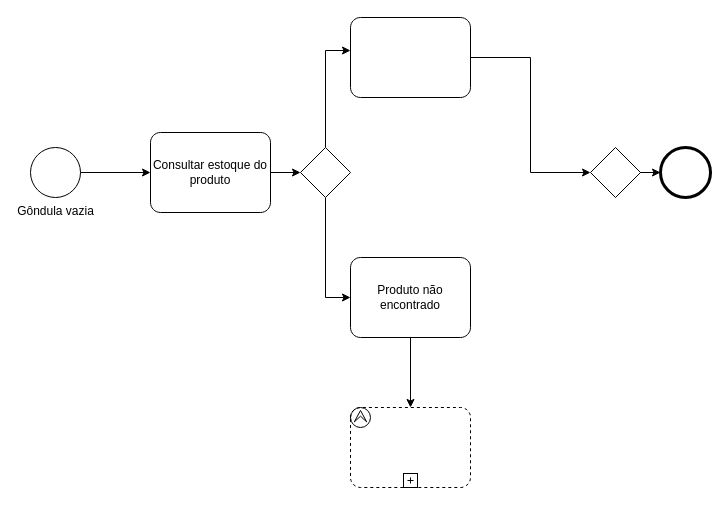
The diagram is 728 pixels wide and 505 high, and some of its shapes have lost their labels. Here are the shapes that lost their labels. From the top down, the box of each, then its label:
(350, 16, 470, 98): Repor produto
(350, 406, 470, 488): Processo de compra
